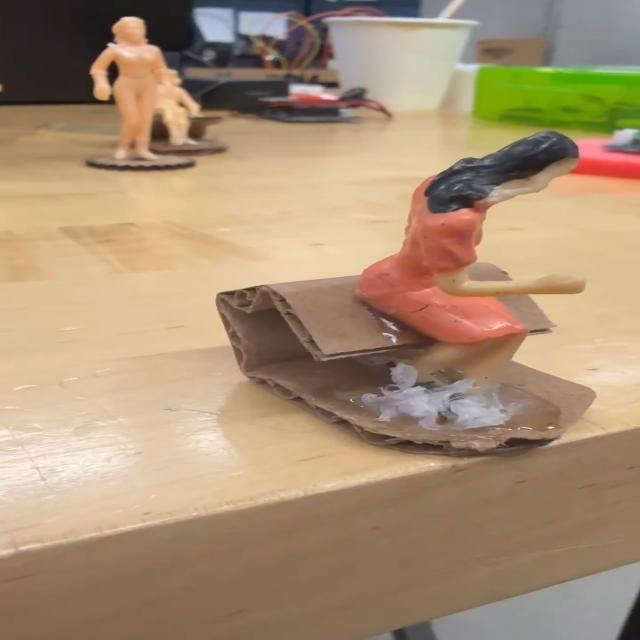Authorized: (351, 133, 589, 391)
